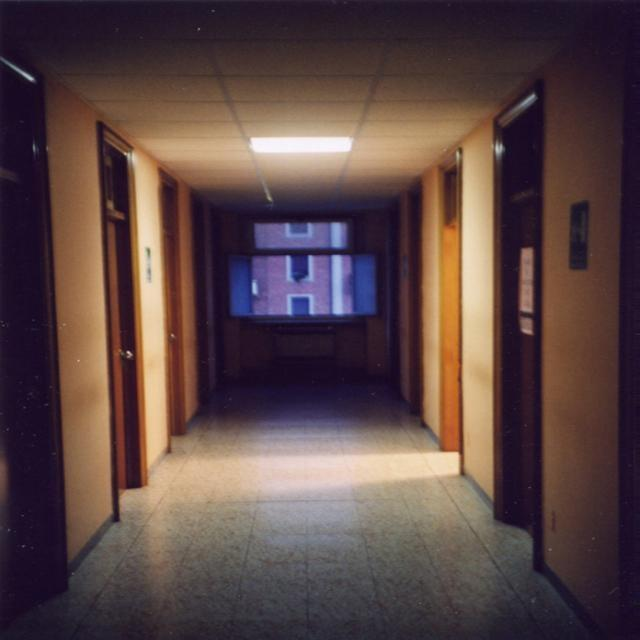door: (0, 47, 69, 640), (488, 80, 550, 578), (90, 118, 148, 520), (435, 146, 469, 484), (159, 164, 184, 456)
